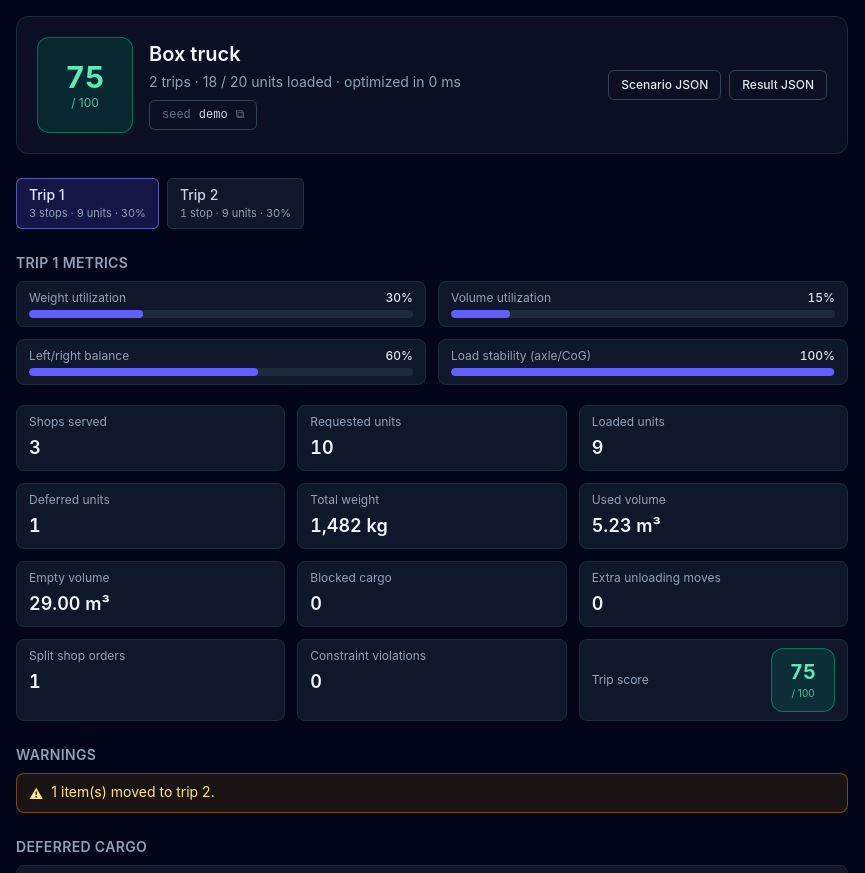
Test: ScreenReport › switching trips updates the metric view via the TripSelector
Click the tab "Trip 2 1 stop · 9 units · 30%": [235, 203] box [167,178,304,228]
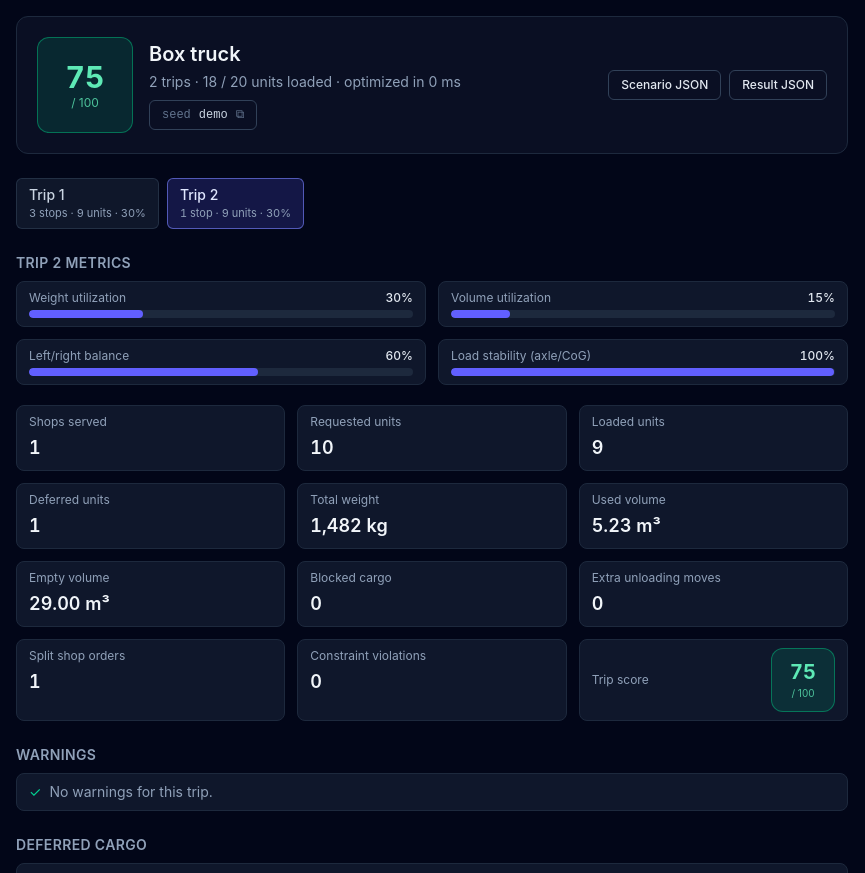
Now the heading "Trip 2 metrics" is shown, box [16,254,131,270]
